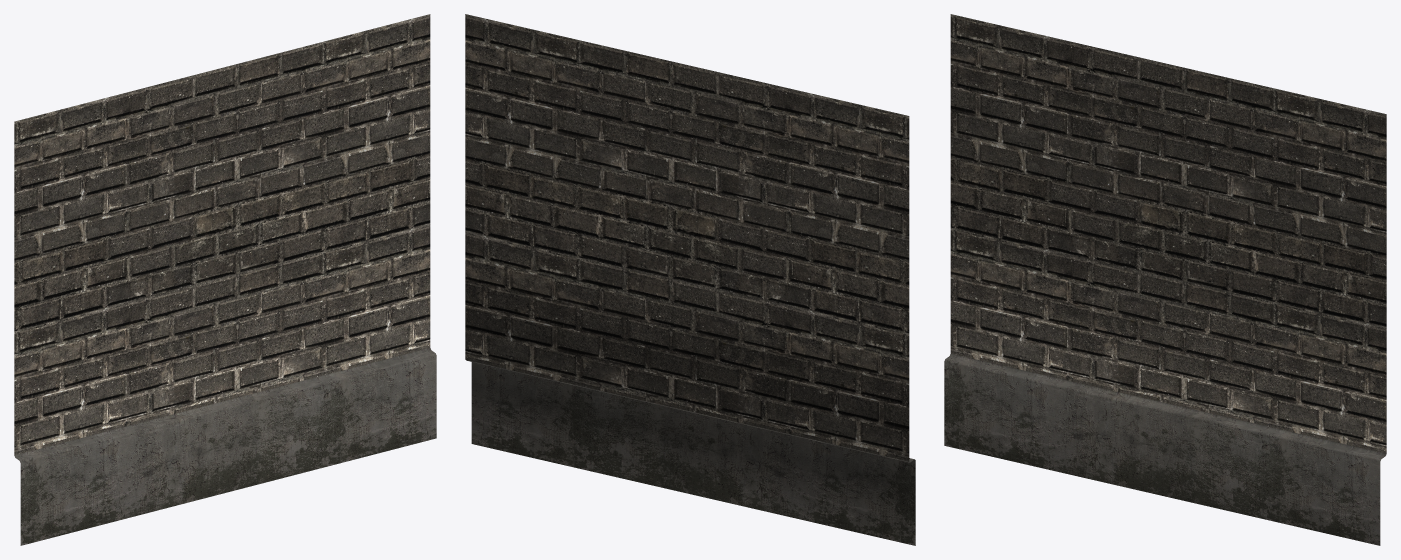
The model's file is WallTileBottom.FBX.
The picture shows the model from 3 angles, left to right: view 1: azimuth 30°, elevation 25°; view 2: azimuth 150°, elevation 25°; view 3: azimuth 330°, elevation 25°; orthographic projection. The views are drawn at different scales.
Parts seen in each view (by area): view 1: WallTileBottom; view 2: WallTileBottom; view 3: WallTileBottom.
Boxes of the visible parts, bbox=[...] form: WallTileBottom: bbox=[14, 14, 436, 545]; WallTileBottom: bbox=[465, 14, 915, 545]; WallTileBottom: bbox=[944, 14, 1386, 545].
Bounding box in the file's own units: 398 × 378 × 20.28.
Materials: 2 (2 with a texture image).
